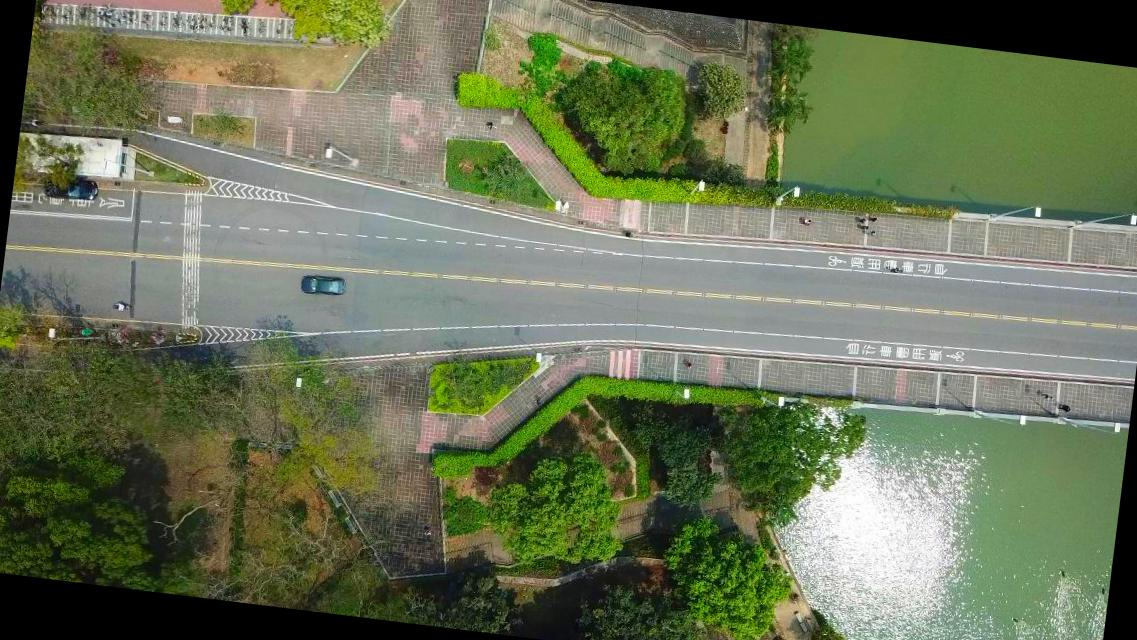vehicle: (42, 174, 98, 202), (300, 273, 346, 297)
